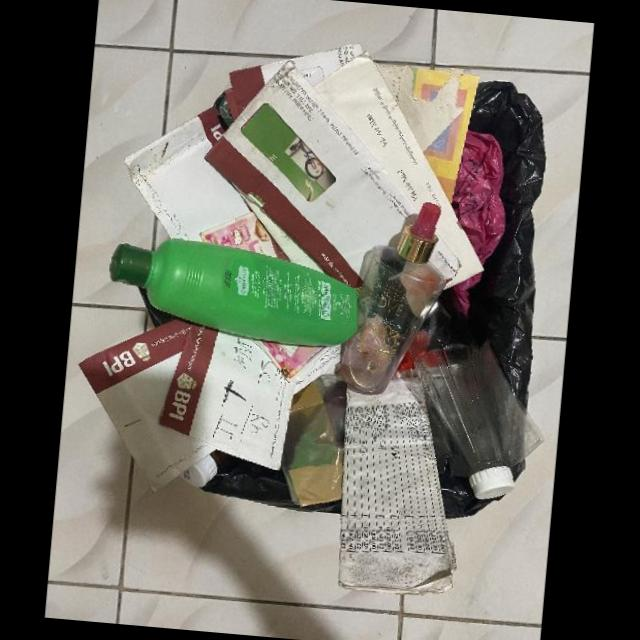chai_nhua: (109, 238, 358, 347), (339, 202, 445, 396)
chai_thuy_tinh: (409, 288, 514, 500)
giay: (204, 60, 418, 289), (313, 57, 484, 289), (337, 376, 456, 595), (80, 318, 216, 492), (125, 106, 278, 257), (154, 323, 293, 471), (375, 63, 479, 204), (256, 340, 342, 398)
tui_ni_long: (451, 129, 505, 266)
